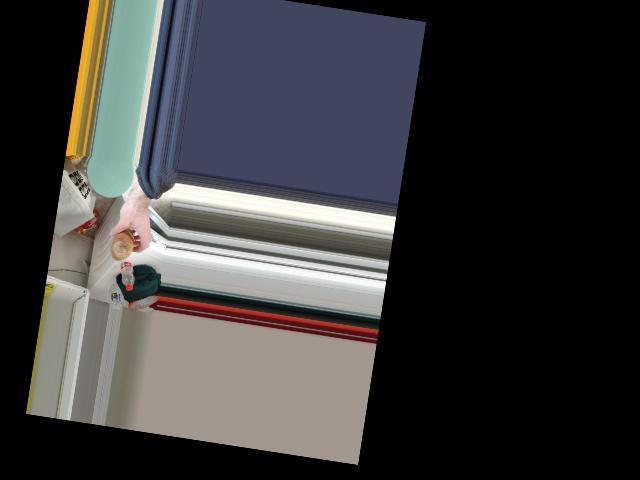sweet_potato: (105, 223, 138, 264)
